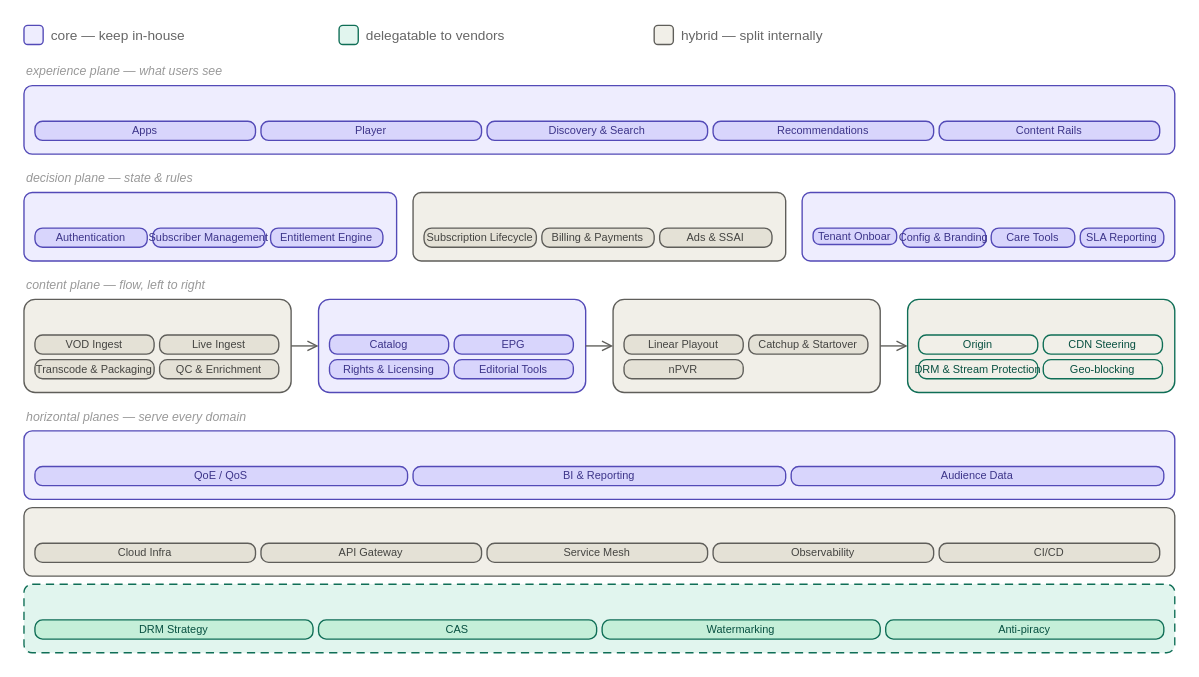
The diagram is 1199 pixels wide and 677 high, and some of its shapes have lost their labels. Each missing label, with the box of its shape:
B2B tenant operations: (801, 191, 1175, 261)
Content management: (317, 298, 586, 393)
Content supply chain: (23, 298, 291, 393)
Data & analytics: (23, 429, 1175, 499)
Delivery: (906, 298, 1175, 393)
Experience: (23, 84, 1175, 154)
Identity & entitlements: (23, 191, 397, 261)
Monetization: (412, 191, 786, 261)
Platform foundation: (23, 506, 1175, 576)
Playout & time-shift: (612, 298, 880, 393)
Security: (23, 583, 1175, 653)
